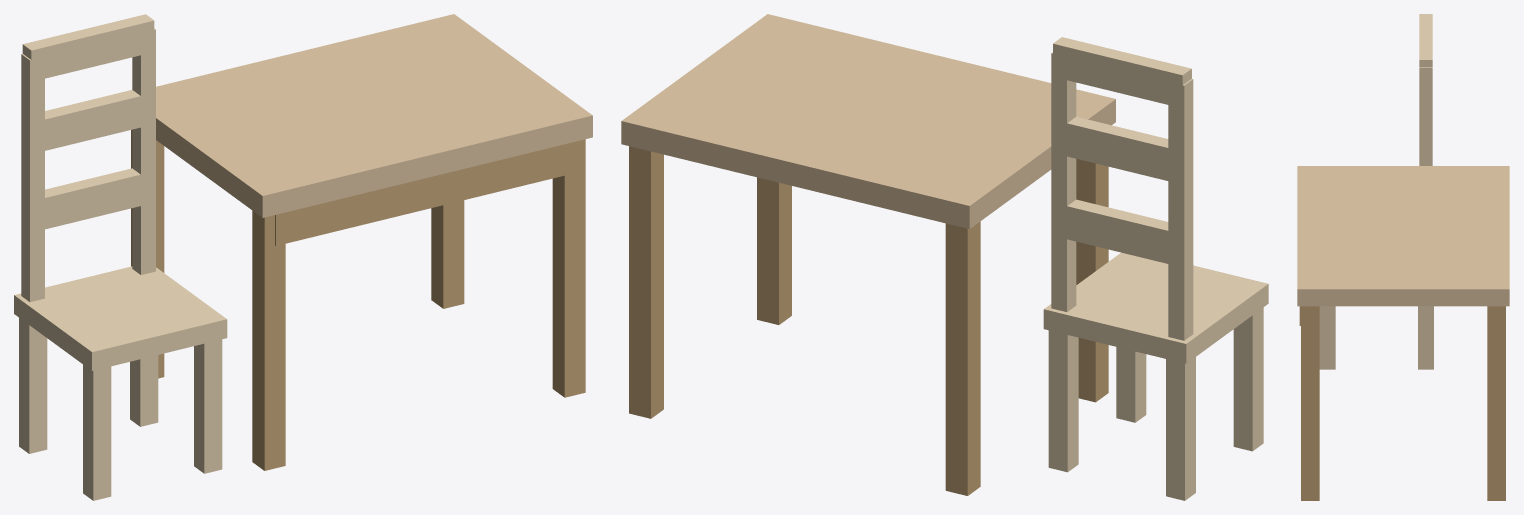
Rendered from shop-desk.glb.
The picture shows the model from 3 angles, left to right: view 1: azimuth 30°, elevation 25°; view 2: azimuth 150°, elevation 25°; view 3: azimuth 270°, elevation 25°; orthographic projection. The views are drawn at different scales.
Parts seen in each view (by area): view 1: TableTop, WoodChair_Seat, TableApron, TableLeg, TableLeg.002, WoodChair_BackR, WoodChair_Rail.002, WoodChair_BackL, WoodChair_Rail.001, WoodChair_Rail, WoodChair_Leg.003, WoodChair_Leg.001 (+4 smaller); view 2: TableTop, WoodChair_Seat, TableLeg.001, TableLeg.003, WoodChair_BackL, WoodChair_Rail.002, WoodChair_BackR, WoodChair_Rail, WoodChair_Rail.001, TableLeg.002, WoodChair_Leg, WoodChair_Leg.002 (+3 smaller); view 3: TableTop, TableLeg.002, TableLeg.003, WoodChair_BackL, WoodChair_Leg.001, WoodChair_Leg, WoodChair_Rail.002.
Boxes of the visible parts, left/top/right/bottom form: TableTop: left=156, top=14, right=592, bottom=217; WoodChair_Seat: left=14, top=266, right=227, bottom=370; TableApron: left=275, top=141, right=575, bottom=245; TableLeg: left=252, top=210, right=285, bottom=470; TableLeg.002: left=552, top=139, right=585, bottom=397; WoodChair_BackR: left=21, top=53, right=44, bottom=301; WoodChair_Rail.002: left=22, top=14, right=154, bottom=81; WoodChair_BackL: left=132, top=28, right=155, bottom=274; WoodChair_Rail.001: left=31, top=90, right=154, bottom=153; WoodChair_Rail: left=31, top=168, right=154, bottom=232; WoodChair_Leg.003: left=83, top=364, right=111, bottom=500; WoodChair_Leg.001: left=194, top=339, right=222, bottom=473; TableTop: left=621, top=14, right=1115, bottom=229; WoodChair_Seat: left=1043, top=252, right=1268, bottom=363; TableLeg.001: left=945, top=221, right=980, bottom=495; TableLeg.003: left=629, top=146, right=663, bottom=418; WoodChair_BackL: left=1051, top=52, right=1076, bottom=311; WoodChair_Rail.002: left=1053, top=37, right=1191, bottom=108; WoodChair_BackR: left=1168, top=78, right=1193, bottom=340; WoodChair_Rail: left=1053, top=199, right=1182, bottom=267; WoodChair_Rail.001: left=1053, top=116, right=1182, bottom=184; TableLeg.002: left=757, top=177, right=791, bottom=324; WoodChair_Leg: left=1048, top=330, right=1078, bottom=472; WoodChair_Leg.002: left=1166, top=357, right=1195, bottom=500; TableTop: left=1297, top=166, right=1509, bottom=306; TableLeg.002: left=1301, top=306, right=1319, bottom=500; TableLeg.003: left=1487, top=306, right=1505, bottom=500; WoodChair_BackL: left=1419, top=67, right=1432, bottom=165; WoodChair_Leg.001: left=1319, top=306, right=1335, bottom=369; WoodChair_Leg: left=1418, top=306, right=1433, bottom=369; WoodChair_Rail.002: left=1419, top=14, right=1432, bottom=67.
Size of the model in its own units: 1.62 by 1.28 by 0.8.
